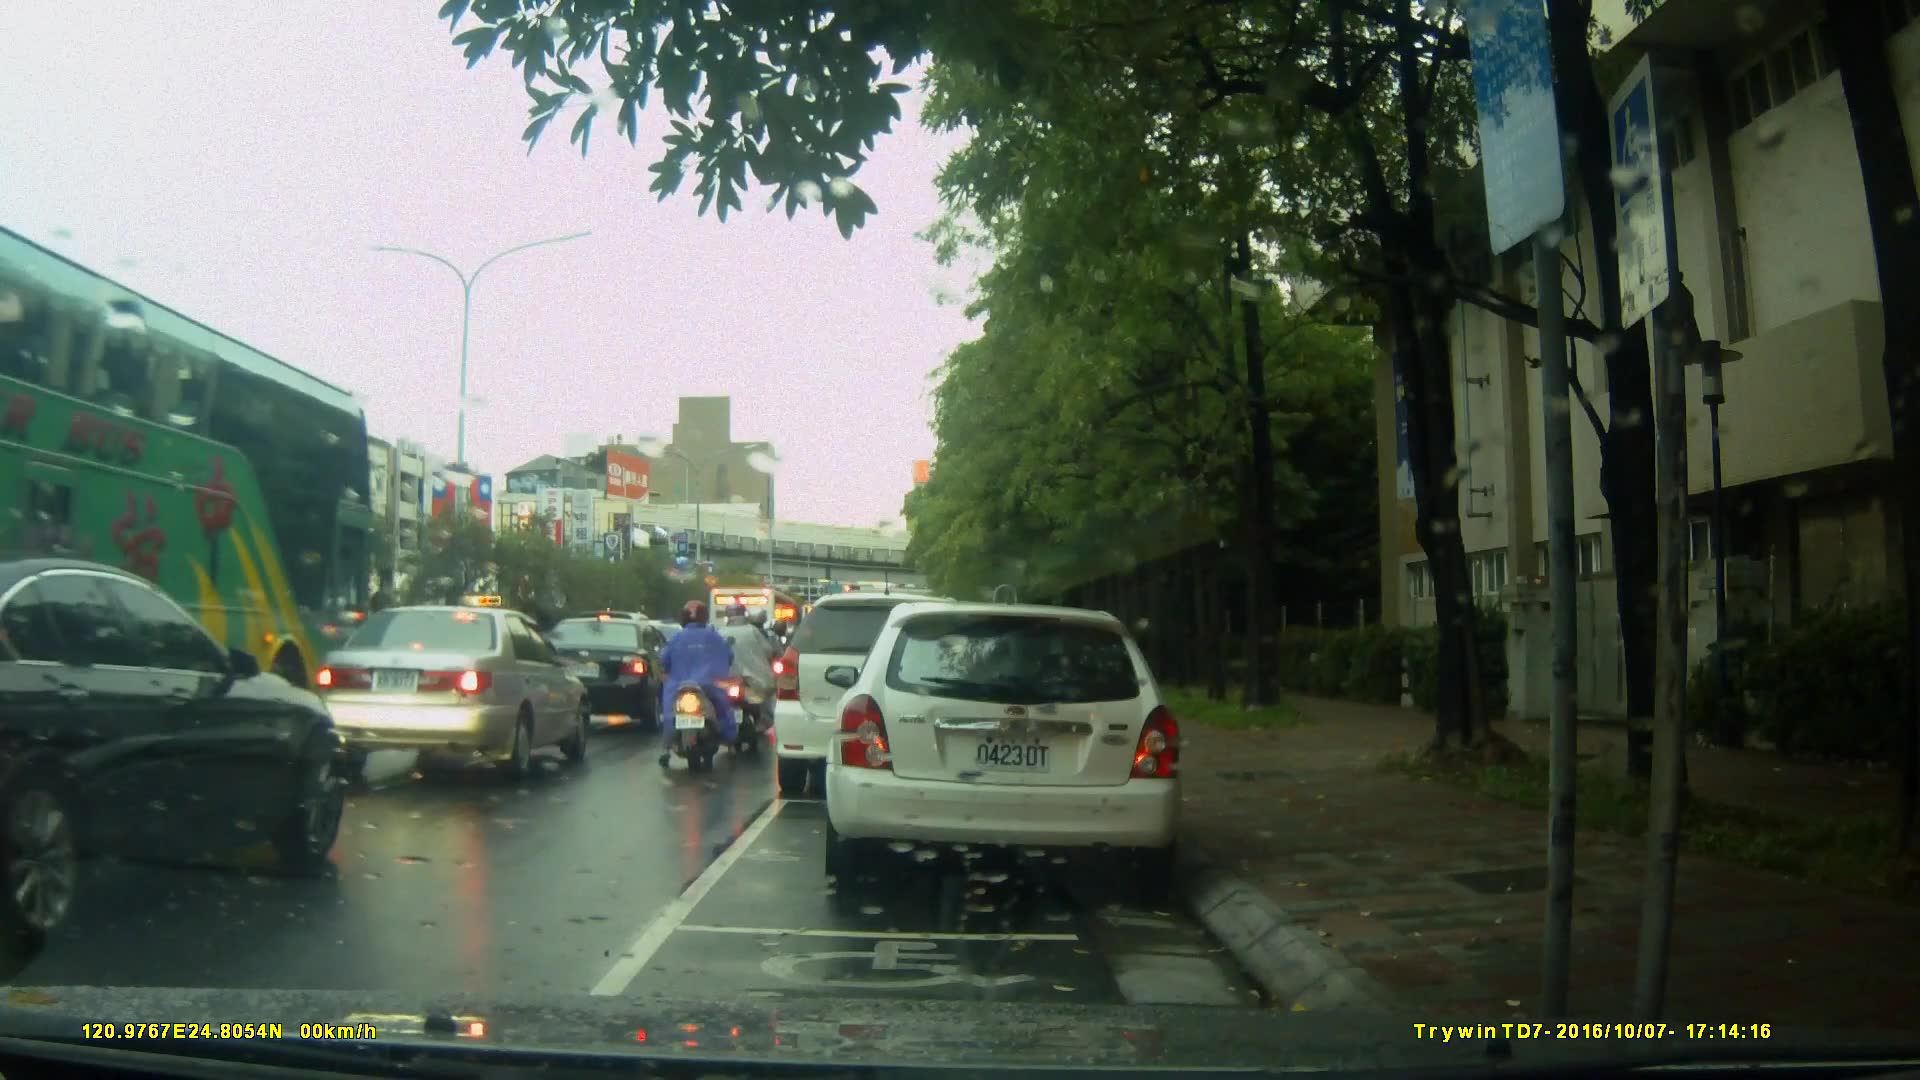rider: (650, 596, 731, 779), (713, 597, 778, 747)
vehicle: (1, 222, 418, 694), (1, 563, 341, 952), (831, 592, 1196, 897), (306, 603, 592, 787), (770, 592, 999, 799), (526, 616, 680, 734), (705, 586, 805, 706)
